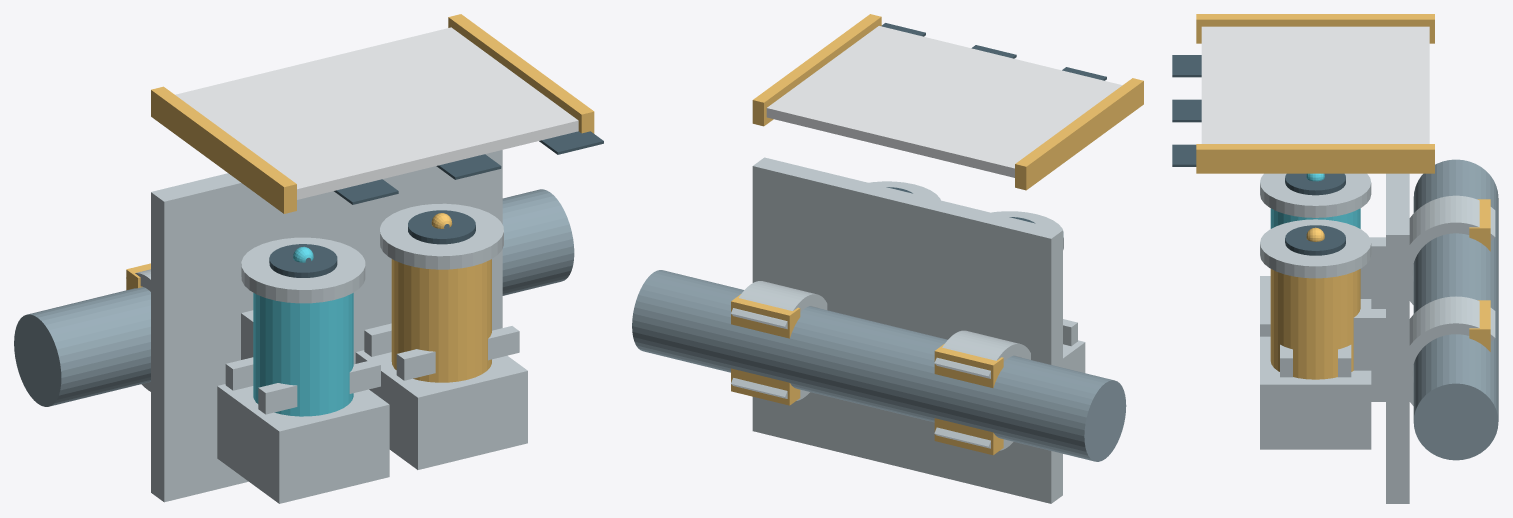
File: VIRA-GATE-sensor-head.glb
3 renders of one model, left to right at view 1: azimuth 30°, elevation 25°; view 2: azimuth 150°, elevation 25°; view 3: azimuth 270°, elevation 25°, orthographic. The views are drawn at different scales.
Visible parts, largest first — view 1: body, target, radiometer, rail, camera, dark; view 2: body, rail, target, radiometer, dark; view 3: body, target, radiometer, rail, dark, camera.
Part boxes in pixels (left/top/right/bottom): body: left=135, top=150, right=527, bottom=503; target: left=175, top=27, right=578, bottom=199; radiometer: left=126, top=14, right=594, bottom=382; rail: left=14, top=189, right=574, bottom=406; camera: left=253, top=246, right=353, bottom=416; dark: left=269, top=131, right=603, bottom=277; body: left=731, top=157, right=1085, bottom=503; rail: left=632, top=270, right=1126, bottom=461; target: left=766, top=26, right=1122, bottom=177; radiometer: left=731, top=14, right=1143, bottom=455; dark: left=881, top=23, right=1106, bottom=223; body: left=1260, top=173, right=1495, bottom=503; target: left=1201, top=26, right=1429, bottom=143; radiometer: left=1196, top=14, right=1490, bottom=379; rail: left=1413, top=159, right=1498, bottom=460; dark: left=1172, top=55, right=1345, bottom=255; camera: left=1270, top=173, right=1360, bottom=228.
Size of the model in its own units: 0.2 by 0.145 by 0.123.
